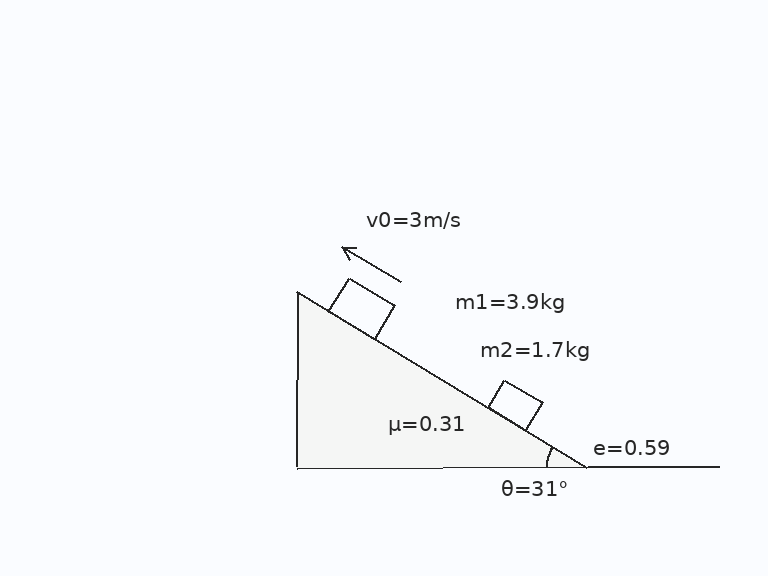block: (326, 276, 396, 341), (486, 378, 544, 432)
ramp: (295, 291, 589, 469)
